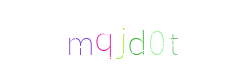0: (104, 0, 184, 80)
D: (84, 0, 164, 80)
J: (82, 0, 162, 80)
M: (40, 0, 120, 80)
Q: (64, 0, 144, 80)
T: (114, 0, 194, 80)
